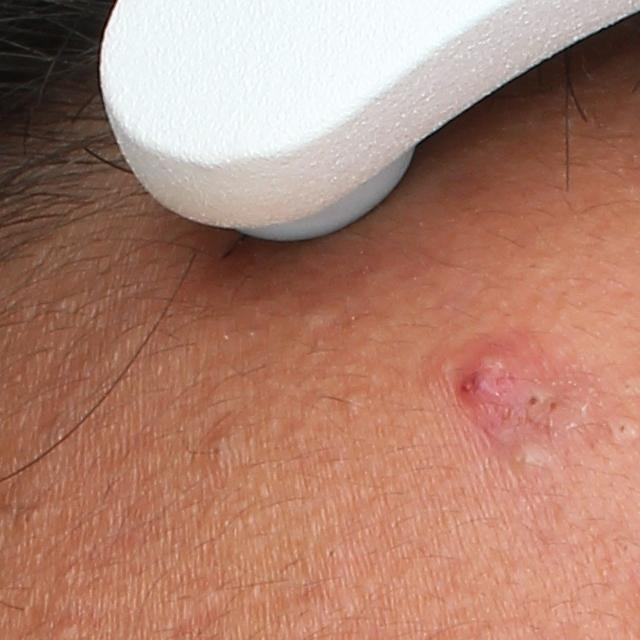comedo: (339, 389, 371, 416), (207, 436, 229, 466), (56, 619, 80, 639), (325, 543, 341, 562), (545, 398, 560, 413)
papule: (454, 326, 543, 418)
